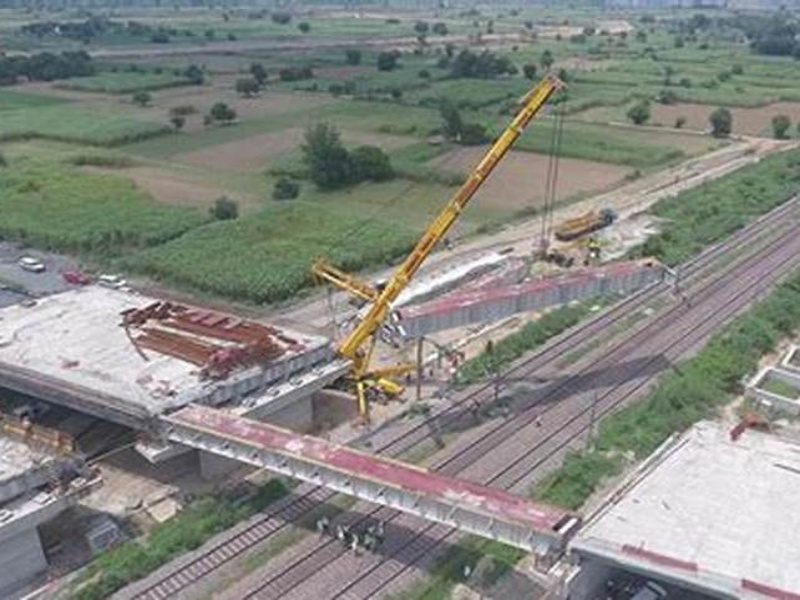crane: (299, 73, 569, 415)
